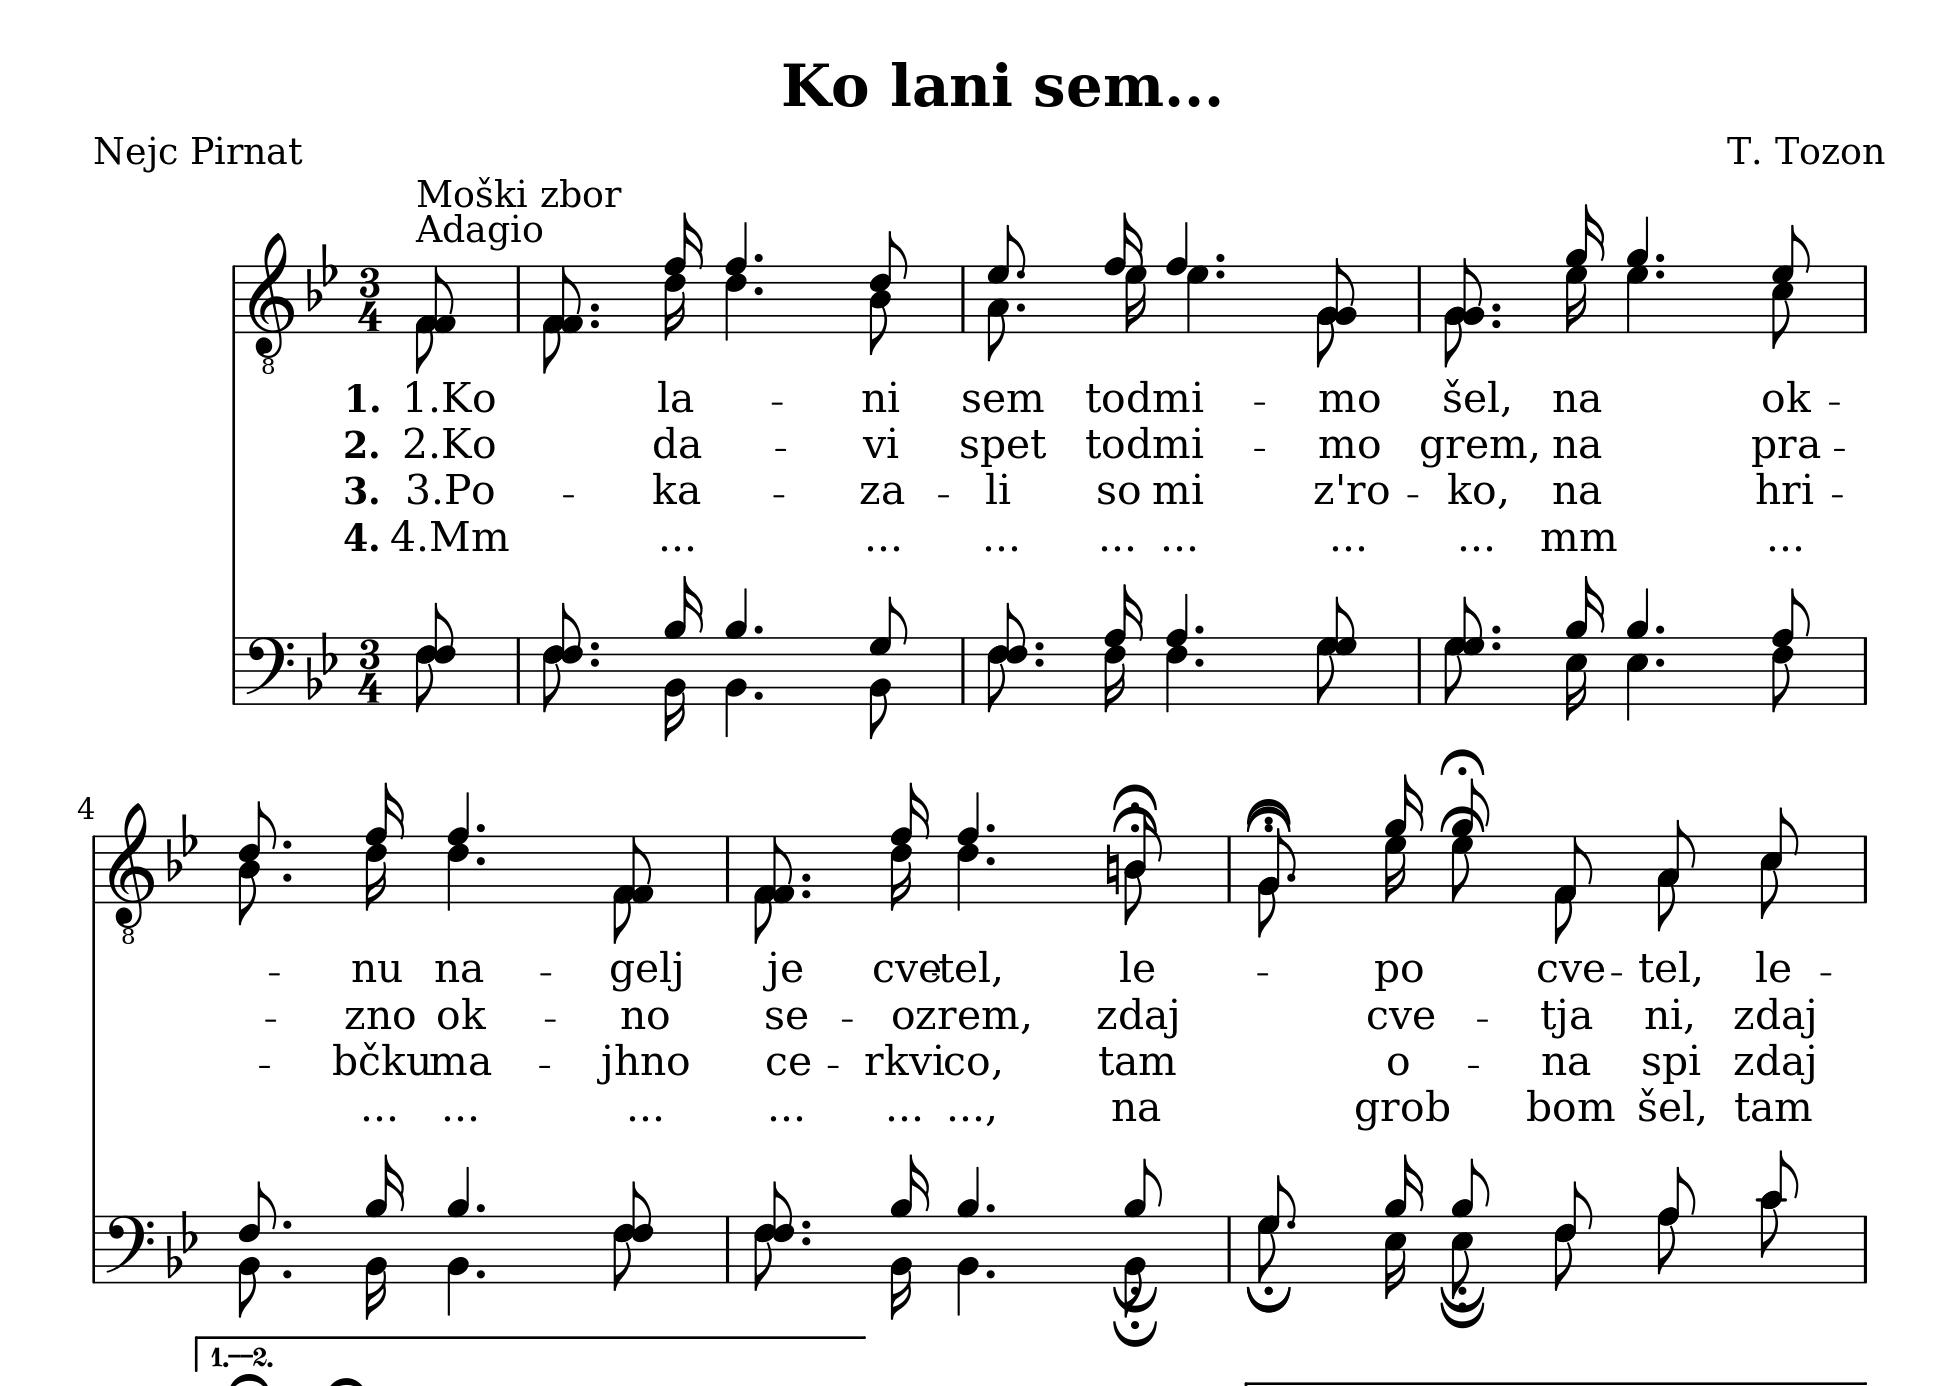16_2_9: (888, 1153, 931, 1318), (664, 577, 706, 744), (364, 1155, 406, 1321)
16_5_9: (1383, 1153, 1428, 1300), (1564, 574, 1608, 721)
16_6_8: (661, 210, 703, 340), (1104, 585, 1146, 712), (889, 781, 930, 913), (364, 784, 406, 910)
16_7_9: (1564, 202, 1608, 334), (1384, 772, 1426, 909), (1450, 778, 1492, 907)
3: (357, 262, 382, 297), (357, 636, 382, 669)
4: (354, 297, 384, 331), (355, 669, 385, 702), (76, 790, 97, 823)
4_2_7: (724, 588, 748, 736)
4_2_9: (445, 1165, 471, 1315), (955, 1165, 981, 1315)
4_6_8: (955, 789, 982, 909), (1165, 592, 1191, 712), (445, 793, 471, 910), (724, 220, 748, 340)
4_7_9: (1626, 213, 1650, 336)
8_2_6: (235, 1180, 277, 1317)
8_2_7: (868, 595, 909, 736)
8_2_9: (1125, 1159, 1164, 1321)
8_3_7: (987, 223, 1029, 358)
8_4_6: (237, 801, 279, 925), (867, 232, 909, 354)
8_5_7: (1770, 223, 1813, 348)
8_5_9: (1450, 1159, 1491, 1296), (1624, 588, 1651, 723)
8_6_8: (1770, 586, 1813, 712)
B_F: (165, 810, 198, 880), (304, 241, 337, 310), (306, 631, 337, 700)
Fclef: (243, 634, 294, 706), (103, 1212, 154, 1284)
Fermata_above: (1437, 1285, 1488, 1327), (1245, 796, 1293, 832), (1110, 781, 1161, 814), (1110, 1282, 1161, 1315), (1437, 747, 1489, 778), (1111, 1317, 1161, 1347), (1246, 1282, 1293, 1312), (1110, 810, 1155, 834)
Lower_Gclef: (106, 799, 154, 945), (246, 231, 292, 375)
Natural: (1104, 841, 1122, 895)
Single_barline: (1855, 636, 1875, 703), (1857, 1216, 1876, 1282), (1857, 834, 1875, 901), (510, 636, 528, 702), (1221, 1216, 1239, 1281), (85, 1213, 102, 1282), (1857, 264, 1873, 331), (226, 636, 243, 703), (720, 1213, 736, 1281), (1411, 265, 1428, 330), (1411, 637, 1428, 702), (1221, 835, 1237, 900), (226, 264, 241, 331), (955, 265, 970, 330), (955, 637, 970, 702), (718, 835, 733, 900), (87, 832, 100, 901)
TimeSig: (355, 264, 382, 333), (355, 634, 382, 703)
dot: (798, 886, 816, 901), (750, 688, 769, 702), (1488, 639, 1507, 652), (798, 1216, 814, 1231), (798, 1234, 817, 1246), (1653, 265, 1668, 280), (1032, 637, 1048, 651), (1489, 622, 1506, 636), (1653, 622, 1669, 636), (982, 1266, 999, 1279), (1032, 655, 1050, 667), (472, 1267, 490, 1279), (1212, 250, 1227, 264), (1213, 265, 1227, 280), (1014, 298, 1027, 313), (586, 300, 601, 313), (279, 837, 294, 850), (472, 853, 487, 867), (1488, 301, 1503, 315), (984, 820, 999, 834), (586, 316, 603, 328), (586, 657, 603, 669), (798, 870, 814, 882), (751, 250, 765, 264), (1014, 267, 1027, 280), (1192, 622, 1206, 636), (1653, 249, 1666, 262), (472, 820, 487, 832), (984, 853, 999, 865), (279, 871, 294, 883), (586, 640, 603, 651), (751, 283, 765, 295), (751, 622, 765, 634), (1192, 655, 1206, 667), (984, 1201, 997, 1213), (1656, 655, 1669, 667), (1491, 316, 1504, 328), (474, 1201, 487, 1213), (279, 1218, 292, 1228), (280, 1267, 291, 1278)
